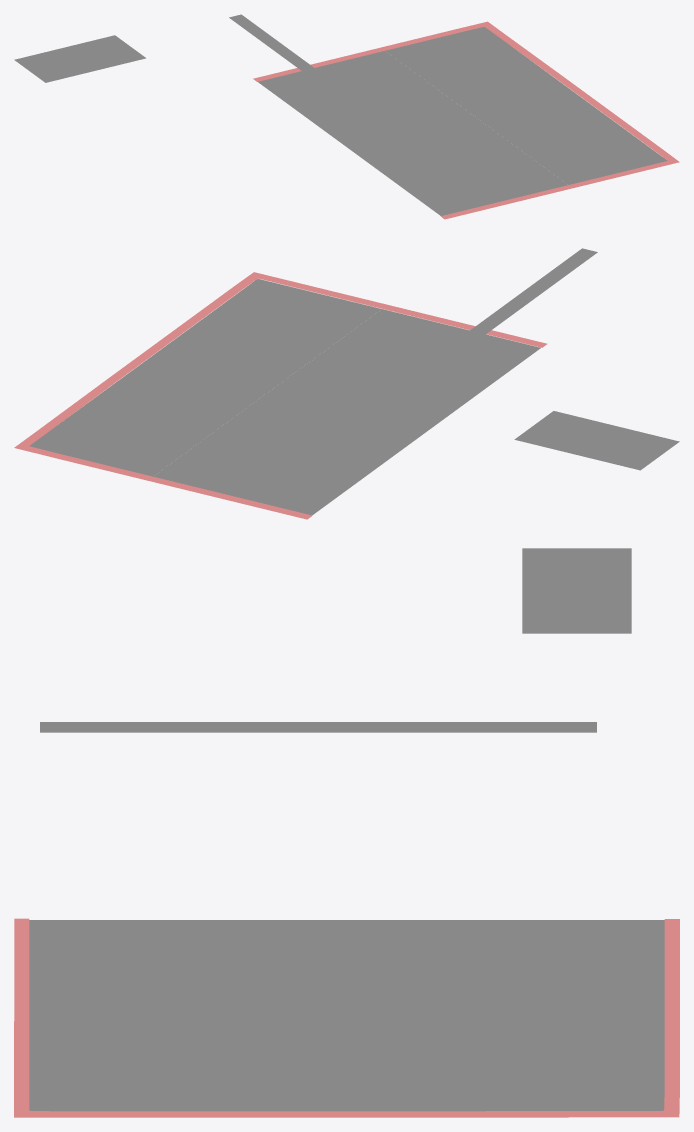
File: S_Envi_Laboratory_Building_032.gltf
The picture shows the model from 3 angles, top to bottom: view 1: azimuth 30°, elevation 25°; view 2: azimuth 150°, elevation 25°; view 3: azimuth 270°, elevation 25°; orthographic projection. The views are drawn at different scales.
Visible parts, largest first — view 1: S_Envi_Laboratory_Building_032; view 2: S_Envi_Laboratory_Building_032; view 3: S_Envi_Laboratory_Building_032.
Part boxes in pixels (box(x1,y1,x2,y2)): S_Envi_Laboratory_Building_032: box(14, 14, 679, 219); S_Envi_Laboratory_Building_032: box(14, 248, 679, 519); S_Envi_Laboratory_Building_032: box(14, 548, 679, 1117).
Size of the model in its own units: 15.31 by 2.73 by 10.46.
